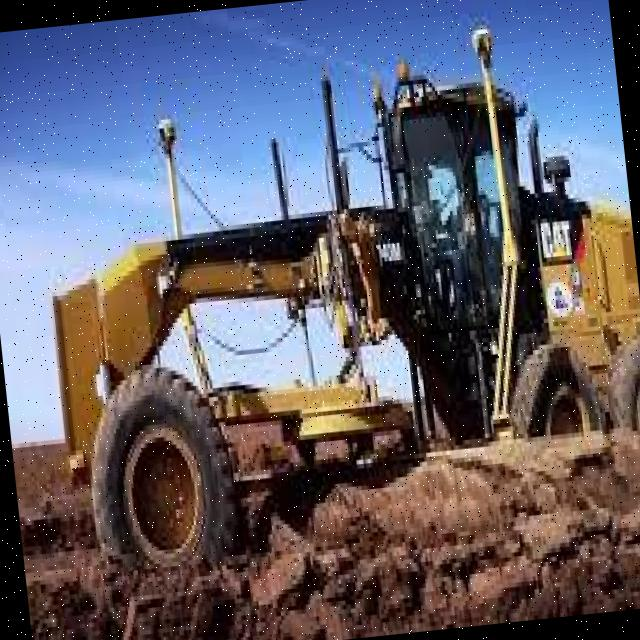Grader: (18, 28, 640, 593)
